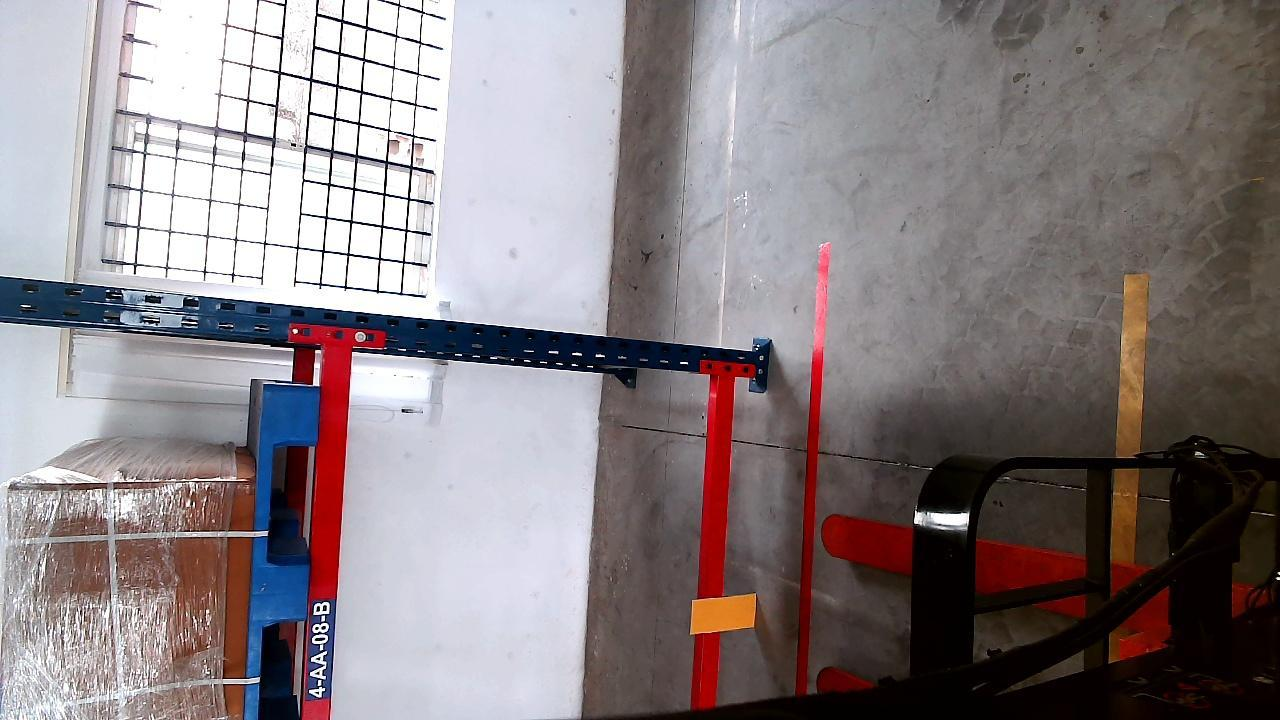red_line: (792, 237, 830, 695)
yellow_line: (1114, 270, 1149, 561)
